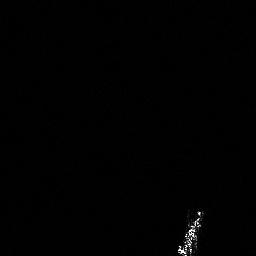ship: (176, 207, 206, 256)
